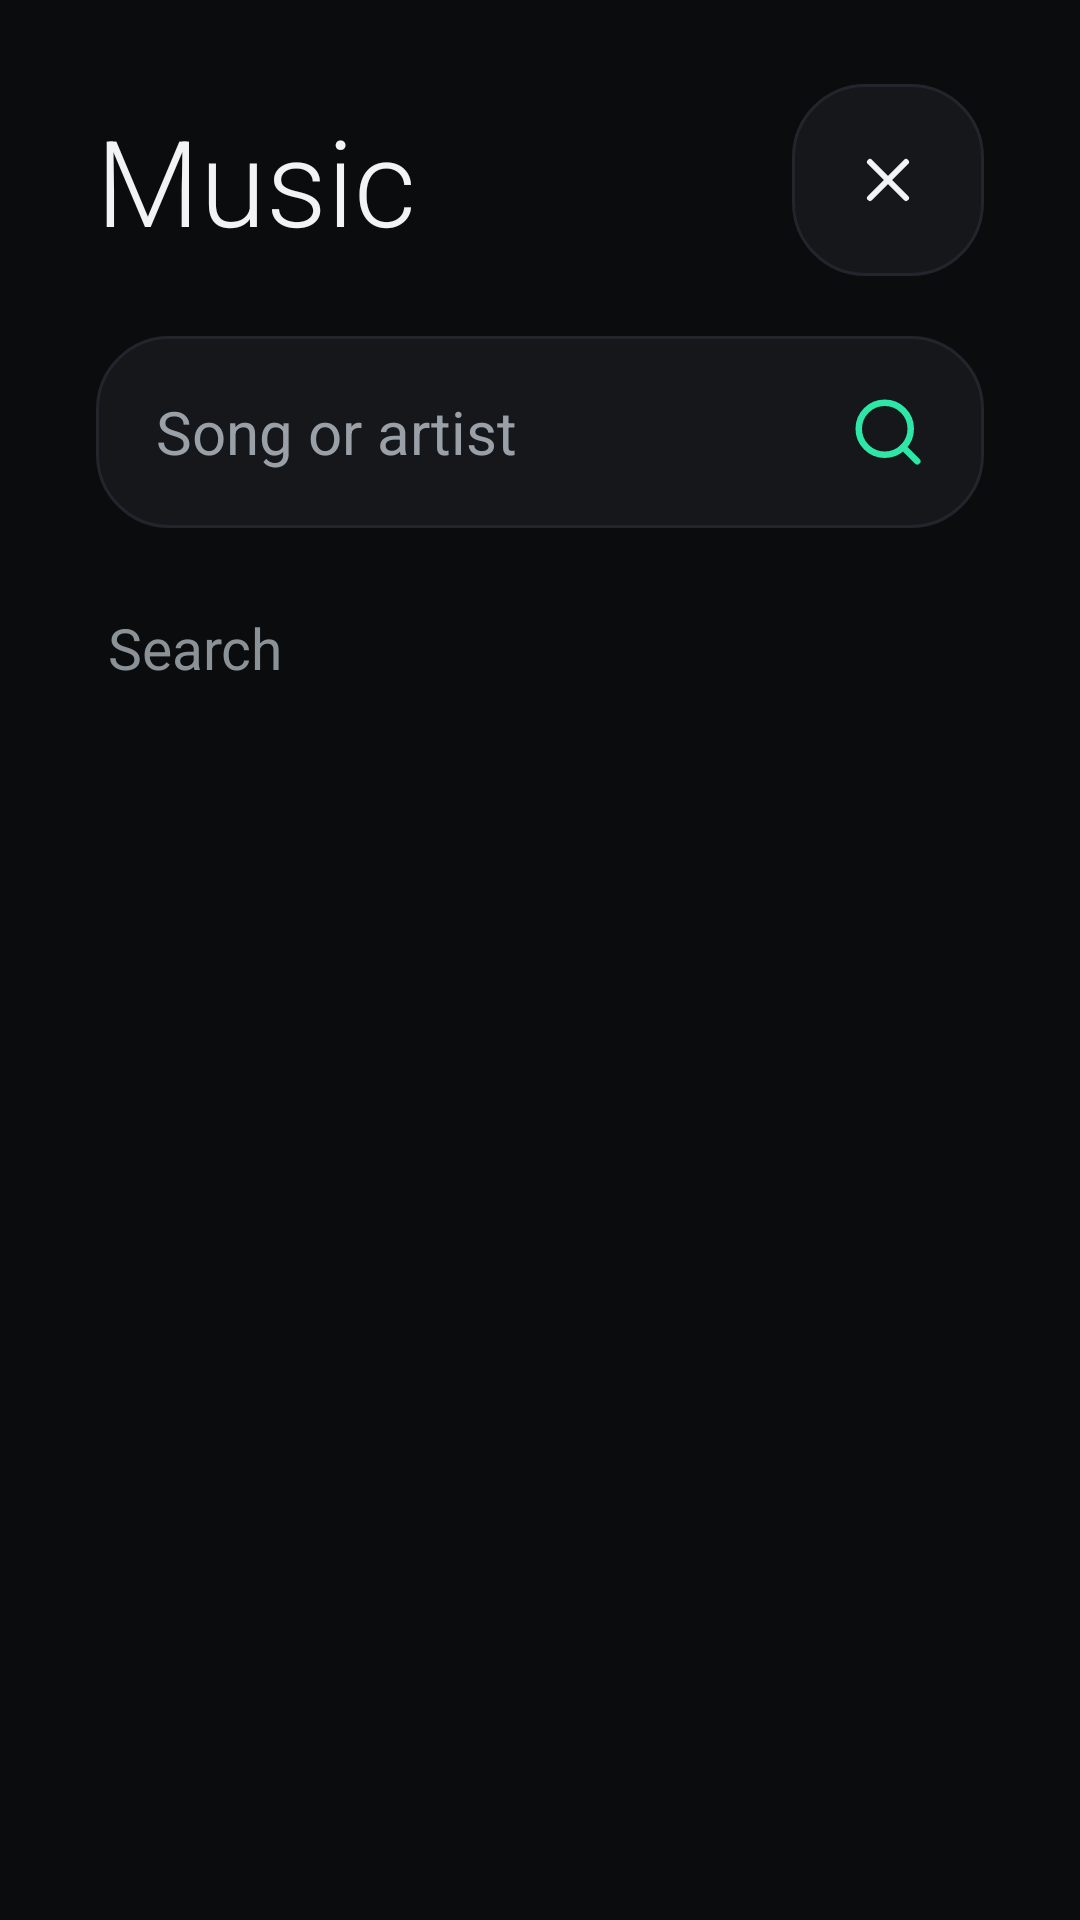

Point at icon controls on the screen. Image size 1080w x 1920h, points as point (x, y).
Close: point (888, 180)
Search: point (888, 432)
